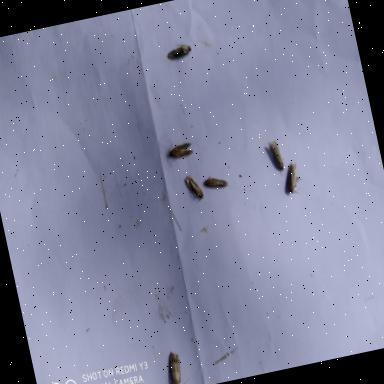pbw: (157, 344, 193, 384), (264, 134, 294, 178), (278, 159, 308, 200), (160, 37, 198, 66), (162, 136, 198, 166), (180, 170, 206, 206), (198, 170, 233, 196)
